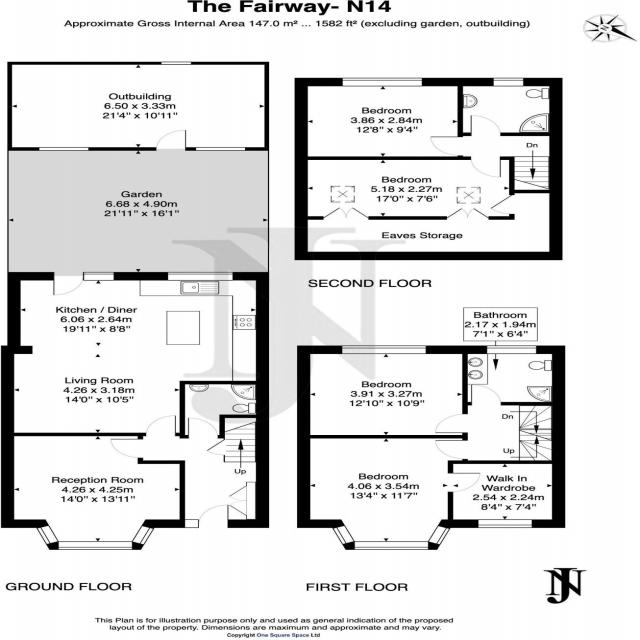DOOR: (51, 271, 86, 297), (197, 503, 231, 529), (446, 472, 482, 495), (109, 437, 145, 460), (469, 155, 503, 179), (144, 414, 178, 438), (469, 383, 504, 406), (469, 114, 503, 137), (434, 412, 469, 434), (434, 439, 469, 461), (187, 416, 220, 439), (429, 136, 465, 157), (488, 193, 516, 216)
ROOM: (1, 270, 271, 439), (0, 432, 186, 551), (296, 434, 482, 551), (295, 345, 469, 439), (293, 156, 517, 221), (292, 77, 464, 161), (446, 460, 566, 529)
WINDOW: (341, 344, 428, 355), (352, 540, 430, 551), (57, 540, 134, 551), (341, 77, 424, 87), (167, 271, 235, 281), (330, 524, 357, 547), (35, 524, 61, 547), (485, 344, 538, 355), (426, 524, 452, 546), (477, 519, 533, 529), (130, 524, 155, 546), (82, 271, 115, 282), (492, 77, 526, 87), (184, 518, 199, 529)
